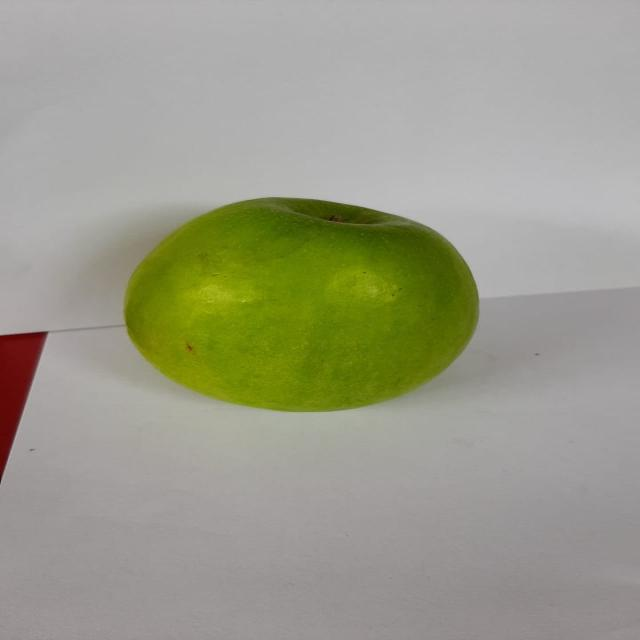50-_ripeness: (105, 179, 487, 425)
